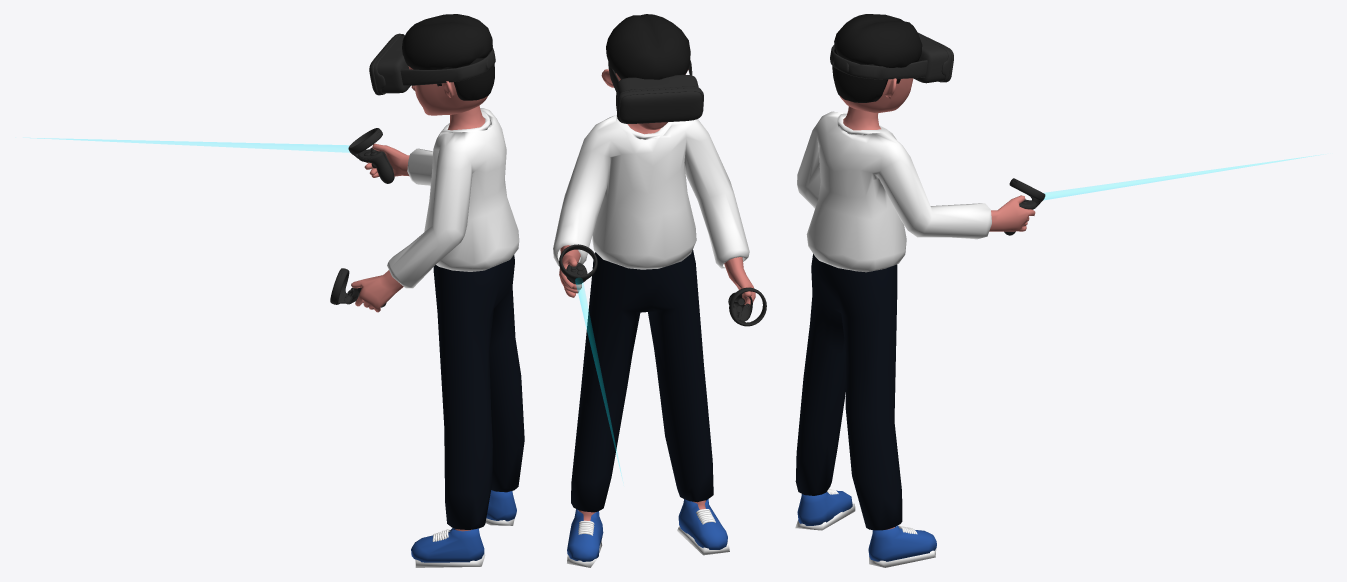
Rendered from LeviSpaceAnim.glb.
3 renders of one model, left to right at view 1: azimuth 30°, elevation 25°; view 2: azimuth 150°, elevation 25°; view 3: azimuth 270°, elevation 25°, orthographic. The views are drawn at different scales.
Visible parts, largest first — view 1: LeviSpaceAnim; view 2: LeviSpaceAnim; view 3: LeviSpaceAnim.
Part boxes in pixels (box(x1,y1,x2,y2)): LeviSpaceAnim: box(37, 14, 524, 567); LeviSpaceAnim: box(553, 14, 766, 567); LeviSpaceAnim: box(795, 14, 1311, 567).
Size of the model in its own units: 0.9942 by 1.78 by 1.68.
Materials: 7 (1 with a texture image).
